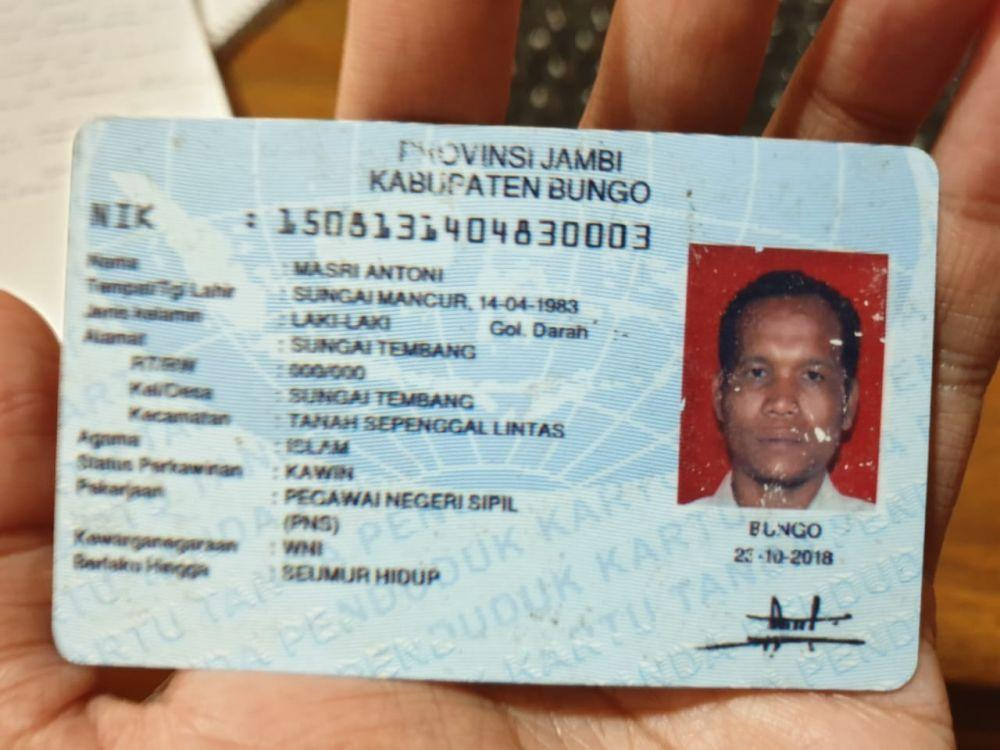ID-card: (46, 118, 936, 689)
